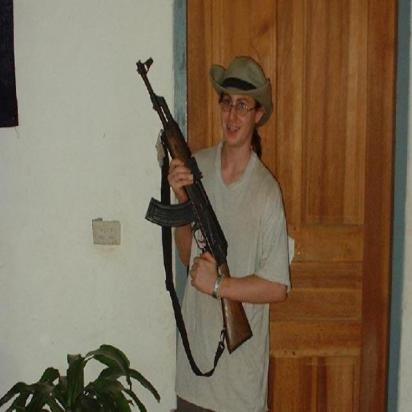Gun: (133, 54, 252, 356)
